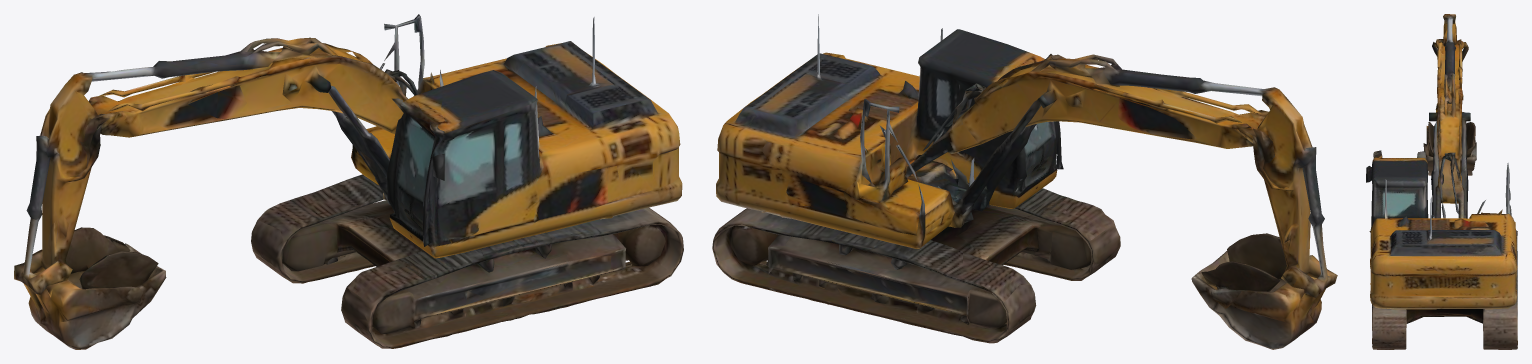
Rendered from excavator.glb.
3 views of the same model, side by side, from view 1: azimuth 30°, elevation 25°; view 2: azimuth 150°, elevation 25°; view 3: azimuth 270°, elevation 25° (orthographic). The views are drawn at different scales.
Visible parts, largest first — view 1: tripo_node_a69ff4cf-9874-4e80-a3fe-69f23f4f8a40; view 2: tripo_node_a69ff4cf-9874-4e80-a3fe-69f23f4f8a40; view 3: tripo_node_a69ff4cf-9874-4e80-a3fe-69f23f4f8a40.
Boxes of the visible parts, left/top/right/bottom form: tripo_node_a69ff4cf-9874-4e80-a3fe-69f23f4f8a40: left=14, top=14, right=683, bottom=349; tripo_node_a69ff4cf-9874-4e80-a3fe-69f23f4f8a40: left=712, top=14, right=1337, bottom=349; tripo_node_a69ff4cf-9874-4e80-a3fe-69f23f4f8a40: left=1366, top=14, right=1517, bottom=349.
Bounding box in the file's own units: 0.9986 × 0.4589 × 0.3512.
1 material, 1 textured.
